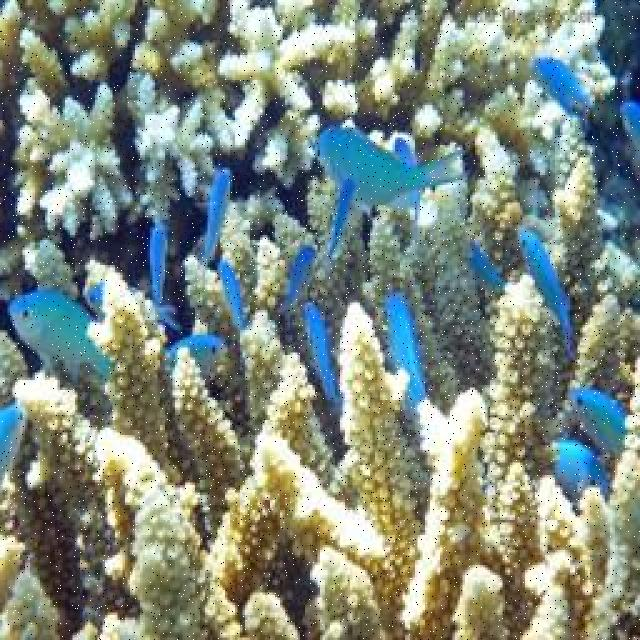fish: (314, 126, 471, 205), (8, 283, 115, 385), (518, 226, 575, 362), (384, 288, 429, 409), (533, 57, 598, 131), (568, 389, 627, 462), (86, 284, 181, 327), (548, 441, 611, 500), (301, 302, 338, 402), (196, 167, 231, 270), (278, 245, 320, 328), (162, 335, 225, 376), (393, 137, 420, 216), (329, 180, 356, 258), (462, 241, 503, 289), (0, 405, 26, 480), (219, 261, 243, 327), (149, 226, 169, 302), (619, 102, 638, 150)
reefs: (0, 130, 638, 638), (0, 0, 616, 235)
